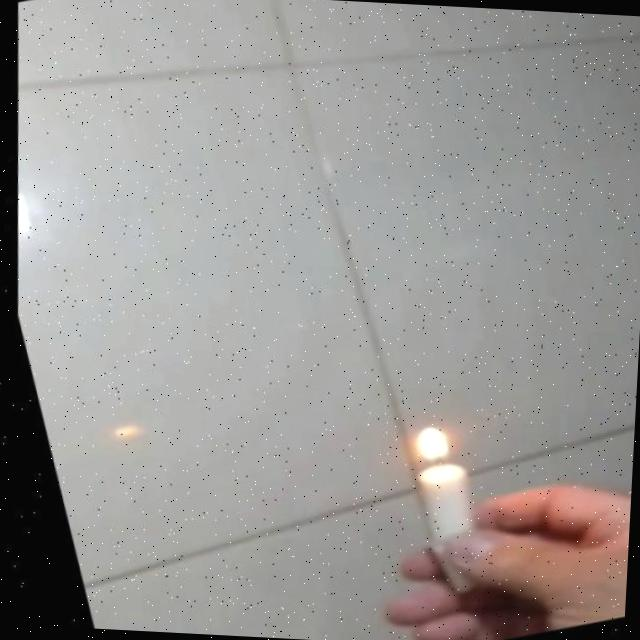fire: (402, 417, 450, 463)
